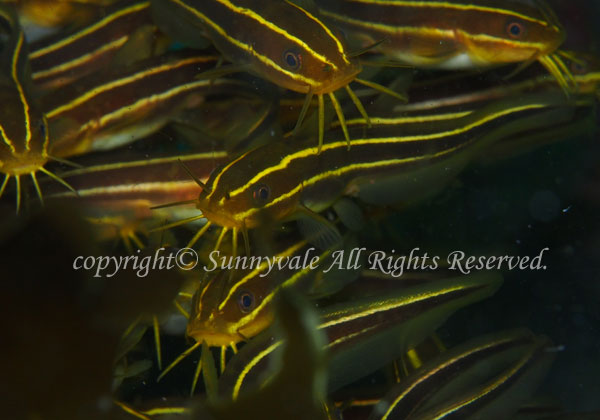gonzui: (194, 82, 600, 235)
